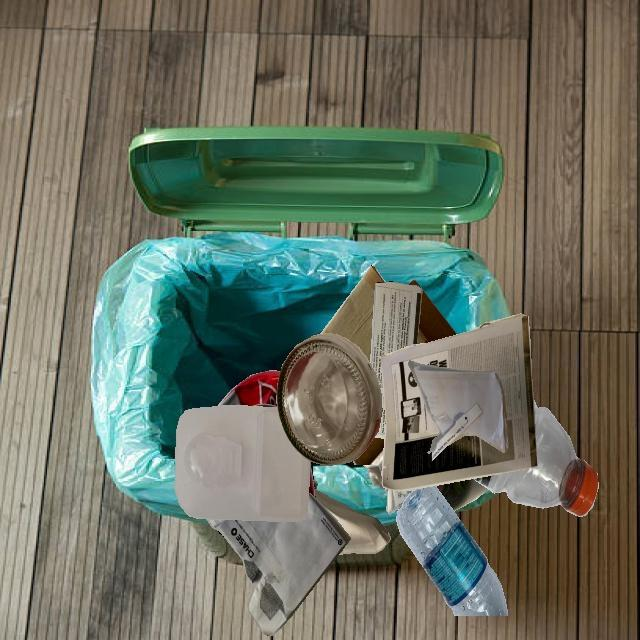cardboard: (356, 283, 408, 459), (320, 265, 385, 358), (408, 281, 457, 344), (355, 437, 384, 465), (313, 475, 318, 490)
glass: (277, 333, 382, 466), (436, 479, 488, 511)
metal: (224, 385, 309, 536), (216, 370, 273, 407)
paper: (380, 314, 537, 491), (207, 492, 351, 636), (408, 360, 509, 461), (370, 282, 423, 439), (314, 489, 391, 554), (363, 450, 415, 515)
plastic: (174, 405, 309, 522), (473, 398, 599, 517), (396, 485, 507, 616)
